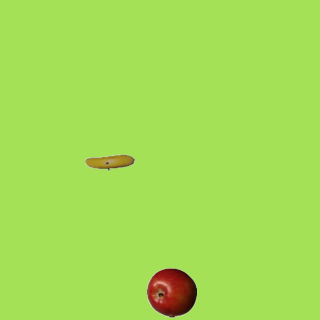Apple Braeburn: (146, 267, 196, 317)
Banana: (84, 137, 134, 187)
